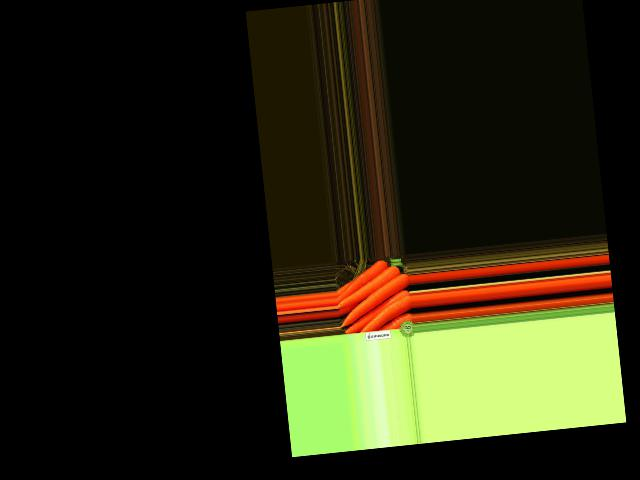carrot: (339, 288, 413, 336)
